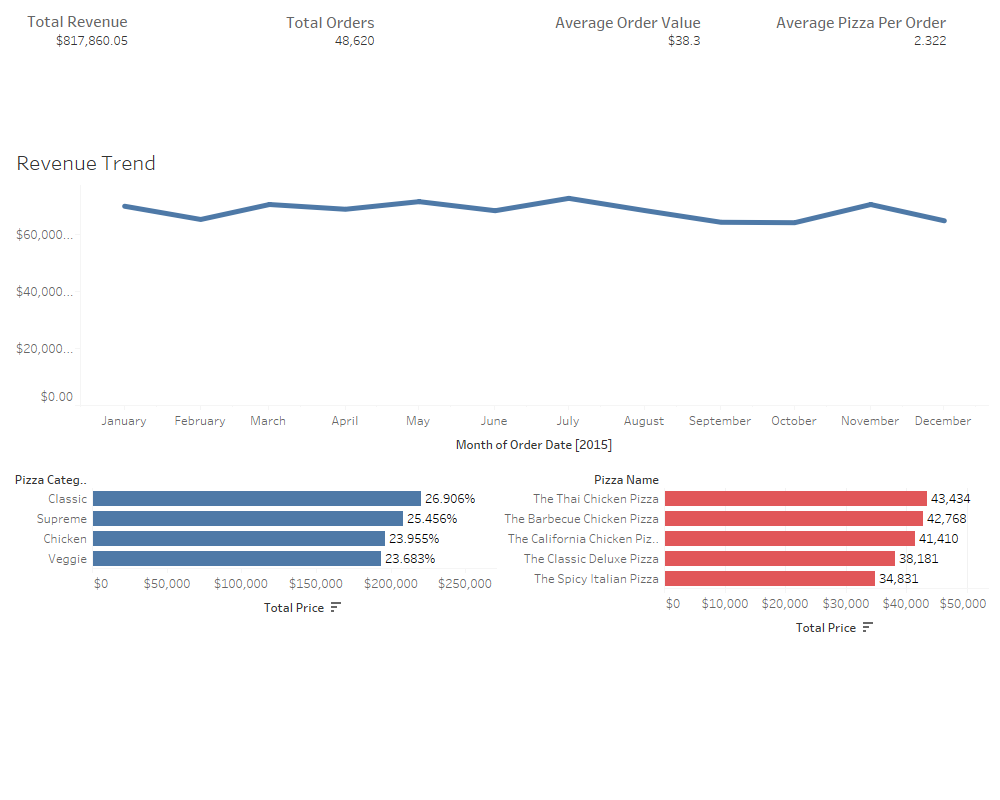

The page's visual inventory and layout, read from the dashboard file:
{"tool":"tableau","page":{"name":"Dashboard 1","canvas":[1000,800],"ordinal":0},"visuals":[{"type":"worksheet","title":"Total Revenue","mark":"Automatic","box":[8,8,266.5,130.3]},{"type":"worksheet","title":"Total Orders","mark":"Automatic","box":[274.5,8,266.5,130.3]},{"type":"worksheet","title":"Average Order Value","mark":"Automatic","box":[541,8,225.5,130.3]},{"type":"worksheet","title":"Avg Pizza Per Order","mark":"Automatic","box":[766.5,8,225.5,130.3]},{"type":"worksheet","title":"Revenue Trend","mark":"Line","rows":["total_price"],"cols":["order_date"],"box":[8,138.3,984,326.1]},{"type":"worksheet","title":"Revenue by Category","mark":"Automatic","rows":["pizza_category"],"cols":["total_price"],"box":[8,464.3,492,327.7]},{"type":"worksheet","title":"top 5 pizza by revenue","mark":"Automatic","rows":["pizza_name"],"cols":["total_price"],"box":[500,464.3,492,327.7]}]}

Visuals, with their boxes in screenshot pixels (x1, y1, x2, y2), scaled from the page's 1000x800 canvas onto the 1000x800 screenshot:
"Total Revenue" worksheet: bbox=[8, 8, 274, 138]
"Total Orders" worksheet: bbox=[274, 8, 541, 138]
"Average Order Value" worksheet: bbox=[541, 8, 766, 138]
"Avg Pizza Per Order" worksheet: bbox=[766, 8, 992, 138]
"Revenue Trend" worksheet (Line marks): bbox=[8, 138, 992, 464]
"Revenue by Category" worksheet: bbox=[8, 464, 500, 792]
"top 5 pizza by revenue" worksheet: bbox=[500, 464, 992, 792]
